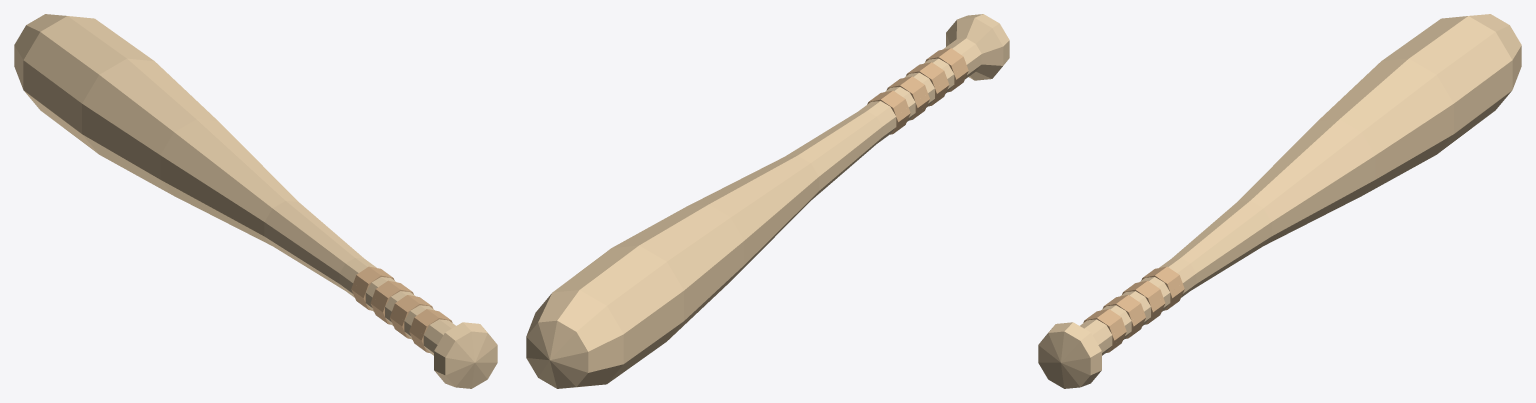
The model's file is bat.glb.
3 views of the same model, side by side, from view 1: azimuth 30°, elevation 25°; view 2: azimuth 150°, elevation 25°; view 3: azimuth 330°, elevation 25° (orthographic).
Visible parts, largest first — view 1: Turned_Wood_Bat, Grip_Band_3, Grip_Band_1, Grip_Band_2, Grip_Band_0; view 2: Turned_Wood_Bat, Grip_Band_2, Grip_Band_0, Grip_Band_3, Grip_Band_1; view 3: Turned_Wood_Bat, Grip_Band_3, Grip_Band_1, Grip_Band_2, Grip_Band_0.
Part boxes in pixels (x1,y1,x2,y2): Turned_Wood_Bat: [14, 14, 497, 388]; Grip_Band_3: [351, 266, 394, 310]; Grip_Band_1: [390, 295, 433, 338]; Grip_Band_2: [370, 280, 413, 324]; Grip_Band_0: [409, 309, 452, 352]; Turned_Wood_Bat: [526, 14, 1009, 388]; Grip_Band_2: [886, 76, 929, 120]; Grip_Band_0: [925, 48, 968, 92]; Grip_Band_3: [867, 90, 910, 134]; Grip_Band_1: [906, 62, 949, 106]; Turned_Wood_Bat: [1038, 14, 1521, 388]; Grip_Band_3: [1141, 266, 1184, 310]; Grip_Band_1: [1102, 295, 1145, 338]; Grip_Band_2: [1122, 280, 1165, 324]; Grip_Band_0: [1083, 309, 1126, 352].
Bounding box in the file's own units: 0.1046 × 0.11 × 0.882.
